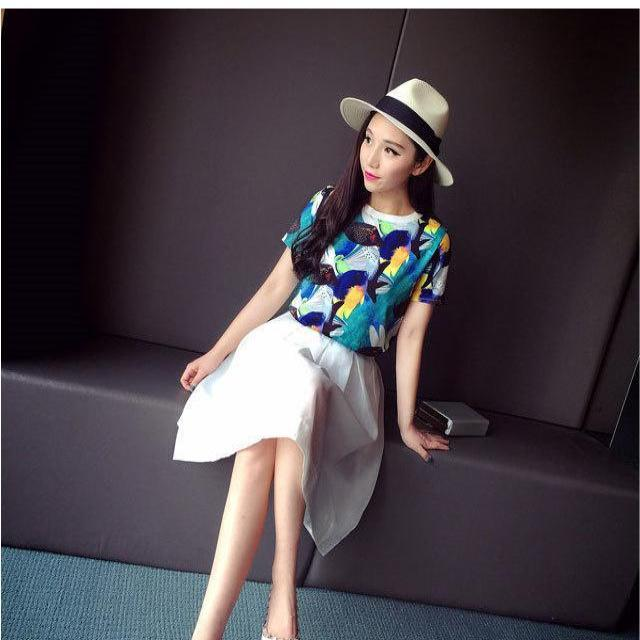short sleeve top: (281, 186, 449, 357)
skirt: (171, 307, 381, 555)
